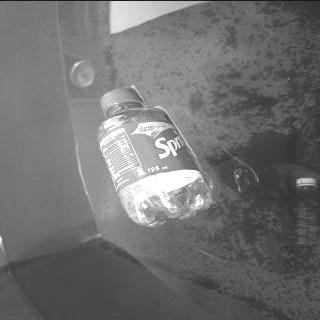bottle: (94, 86, 215, 226)
